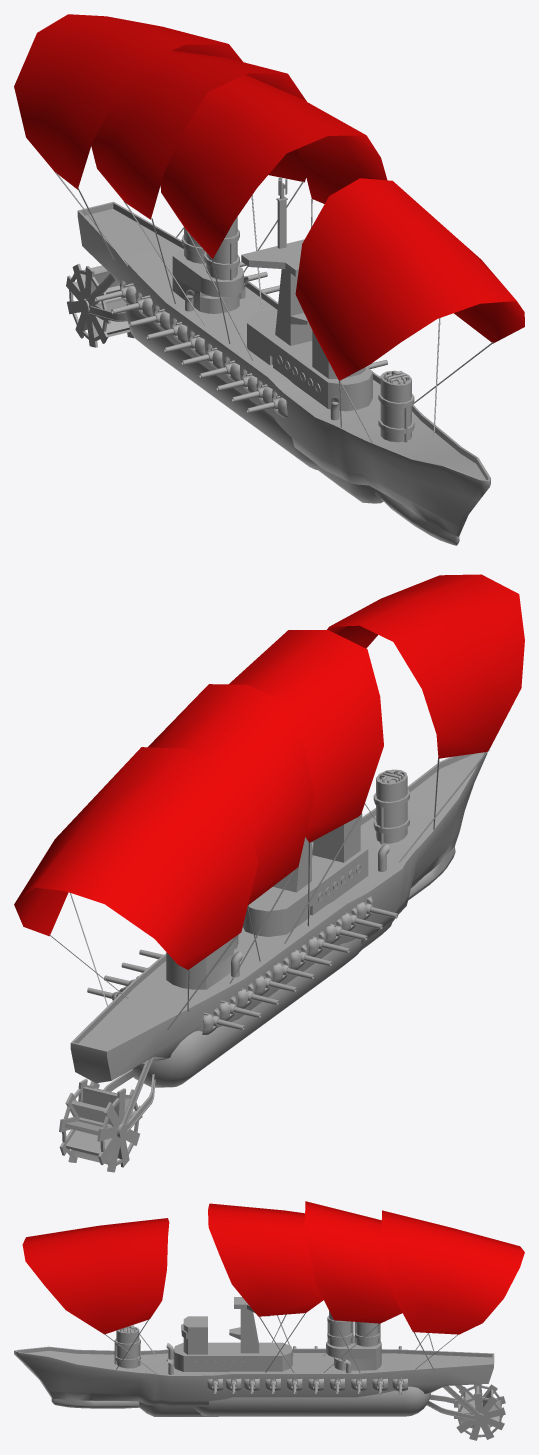
The model's file is ship_navy_fighter.fbx.
3 renders of one model, top to bottom at view 1: azimuth 30°, elevation 25°; view 2: azimuth 150°, elevation 25°; view 3: azimuth 270°, elevation 25°, orthographic. The views are drawn at different scales.
Visible parts, largest first — view 1: Navy_medium; view 2: Navy_medium; view 3: Navy_medium.
Boxes of the visible parts, x1,y1,x2,y2 form: Navy_medium: (14,14,524,545); Navy_medium: (14,574,524,1172); Navy_medium: (14,1201,524,1440).
Size of the model in its own units: 1247 by 2532 by 5182.
